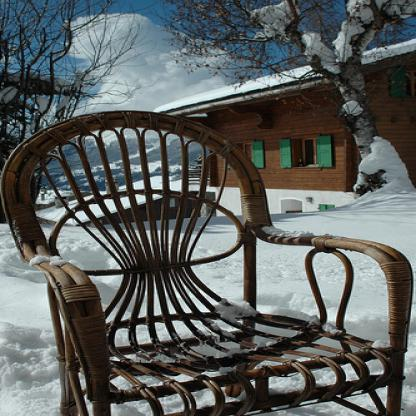chair: (0, 110, 414, 415)
